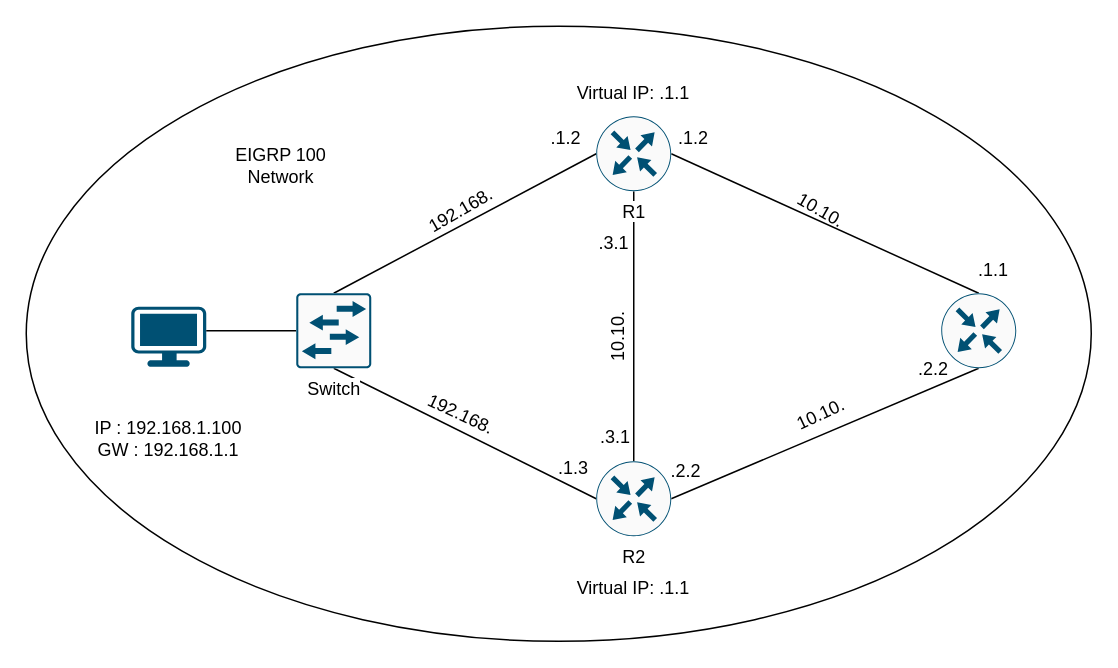
The diagram is 1118 pixels wide and 668 high, and some of its shapes have lost their labels. The shapes that lost their labels are listed below. From the top down, each one's box as (x1, y1, x2, y2) in pixels, then its label:
(130, 306, 206, 366): Server
(940, 292, 1016, 368): R-Core
